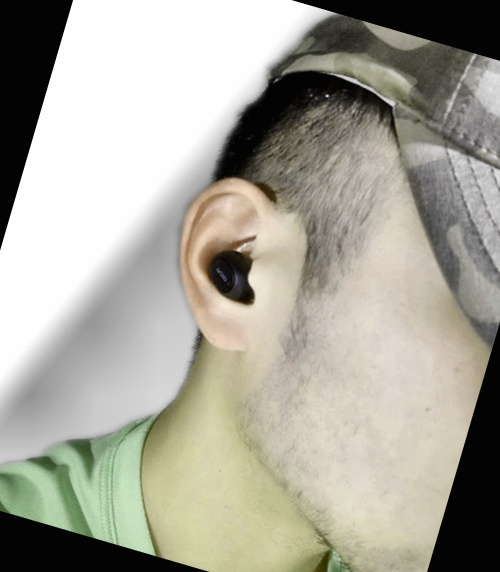earphone: (150, 166, 308, 363)
